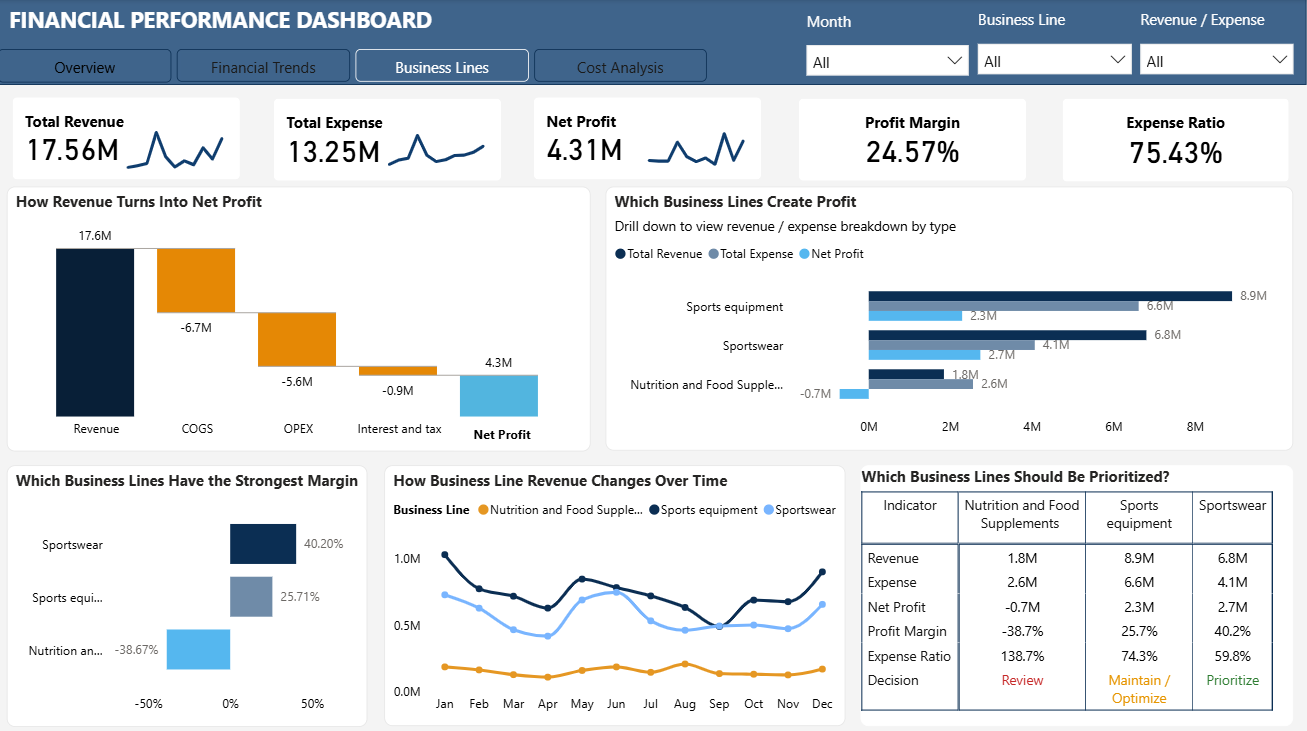

This screenshot's page, from the dashboard's own definition file:
{"tool":"powerbi","page":{"name":"Business Line Performance","canvas":[1280,720],"ordinal":2},"visuals":[{"type":"shape","box":[0,0,1280.3,84.2],"z":0},{"type":"cardVisual","fields":{"Data":["Measure.Expense Ratio"]},"box":[1034.1,83.2,246.2,104.9],"z":0,"group":"g8"},{"type":"textbox","box":[0,0,491.6,51.4],"z":1000},{"type":"group","id":"g1","title":"Group 3","box":[0,83.2,259.7,104.9],"z":1000,"group":"g8"},{"type":"waterfallChart","title":"How Revenue Turns Into Net Profit","fields":{"Category":["Waterfall Steps Simple.Step"],"Y":["Waterfall Steps Simple.Waterfall Step Value Simple"]},"box":[8.6,183.9,571.1,259.2],"z":1000,"group":"g9"},{"type":"actionButton","title":"Overview","box":[0,35.5,170,47.7],"z":2000},{"type":"group","id":"g2","title":"Group 3","box":[262,83.2,260.1,105.2],"z":2000,"group":"g8"},{"type":"actionButton","box":[170,35.5,170,47.7],"z":3000},{"type":"slicer","fields":{"Values":["Dim_BusinessLine.Business Line"]},"box":[953.8,39.3,160,42.8],"z":3000,"group":"g6"},{"type":"slicer","fields":{"Values":["Dim_AccountType.Revenue / Expense Group"]},"box":[1113.2,39.9,159.4,42.5],"z":3000,"group":"g7"},{"type":"slicer","fields":{"Values":["Dim_Date.Month"]},"box":[786.8,40.6,167.8,42.8],"z":3000,"group":"g5"},{"type":"group","id":"g3","title":"Group 3","box":[524.3,83.2,259.3,104.9],"z":3000,"group":"g8"},{"type":"textbox","box":[446.4,410.9,90.5,30.6],"z":3000,"group":"g9"},{"type":"textbox","box":[953.8,5.1,153.6,35.5],"z":4000,"group":"g6"},{"type":"textbox","box":[1113.6,5.1,153.4,35.7],"z":4000,"group":"g7"},{"type":"textbox","box":[786.8,6.4,161.1,35.5],"z":4000,"group":"g5"},{"type":"group","id":"g4","title":"Group 3","box":[785.9,83.2,246.2,104.9],"z":4000,"group":"g8"},{"type":"textbox","box":[390.1,209.1,90.5,30.6],"z":4000},{"type":"actionButton","box":[339.9,35.5,170,47.7],"z":5000},{"type":"cardVisual","fields":{"Data":["Measure.Total Revenue"]},"box":[0,83.2,246.6,104.9],"z":5000,"group":"g1"},{"type":"cardVisual","fields":{"Data":["Measure.Total Expense"]},"box":[262,83.2,246.6,104.9],"z":5000,"group":"g2"},{"type":"cardVisual","fields":{"Data":["Measure.Net Profit"]},"box":[524.3,83.2,246.6,104.9],"z":5000,"group":"g3"},{"type":"cardVisual","fields":{"Data":["Measure.Profit Margin"]},"box":[785.9,83.2,246.2,104.9],"z":5000,"group":"g4"},{"type":"actionButton","box":[509.9,33.7,168.8,47.7],"z":6000},{"type":"group","id":"g5","title":"Group 2","box":[786.8,6.4,167,76.5],"z":7000},{"type":"group","id":"g6","title":"Group 2","box":[953.8,5.1,159.4,76.5],"z":8000},{"type":"group","id":"g7","title":"Group 2","box":[1113.2,5.1,159.4,77.8],"z":9000},{"type":"group","id":"g8","title":"Group 1","box":[0,83.2,1280.3,105.2],"z":10000},{"type":"clusteredBarChart","title":"Which Business Lines Create Profit","fields":{"Category":["Dim_BusinessLine.Business Line","Dim_AccountType.Revenue / Expense Group"],"Y":["Measure.Total Revenue","Measure.Total Expense","Measure.Net Profit"]},"box":[594.3,183.4,672.6,258],"z":11000},{"type":"group","id":"g9","title":"Group 4","box":[8.6,183.9,571.1,259.2],"z":12000},{"type":"lineChart","title":"How Business Line Revenue Changes Over Time","fields":{"Y":["Measure.Total Revenue"],"Series":["Dim_BusinessLine.Business Line"],"Category":["Dim_Date.Year Hierarchy.Year","Dim_Date.Year Hierarchy.Quarter","Dim_Date.Year Hierarchy.Month Short"]},"box":[377.9,456.1,451.2,255.6],"z":13000},{"type":"clusteredBarChart","title":"Which Business Lines Have the Strongest Margin","fields":{"Category":["Dim_BusinessLine.Business Line"],"Y":["Measure.Profit Margin"]},"box":[9.1,456.4,353,255.8],"z":14000},{"type":"pivotTable","title":"Which Business Lines Should Be Prioritized?","fields":{"Columns":["Dim_BusinessLine.Business Line"],"Rows":["Business Line Metrics.Metric"],"Values":["Measure.Business Line Metric Value"]},"box":[843.8,456.1,423.1,255.6],"z":15000},{"type":"lineChart","fields":{"Y":["Measure.Monthly Revenue Growth %"],"Category":["Dim_Date.Month"]},"box":[92.3,109.5,167.4,61.3],"z":16000,"group":"g1"},{"type":"lineChart","fields":{"Category":["Dim_Date.Month"],"Y":["Measure.Monthly Expense Growth %"]},"box":[354.3,109.5,167.4,61.3],"z":16000,"group":"g2"},{"type":"lineChart","fields":{"Category":["Dim_Date.Month"],"Y":["Measure.Monthly Net Profit Growth %"]},"box":[616.6,109.5,167.4,61.3],"z":16000,"group":"g3"}]}

Visuals, with their boxes in screenshot pixels (x1, y1, x2, y2), scaled from the page's 1280x720 canvas onto the 1307x731 screenshot:
shape: 0/0/1306/85
cardVisual - Measure.Expense Ratio: 1056/84/1306/191
textbox: 0/0/502/52
"Group 3" group: 0/84/265/191
"How Revenue Turns Into Net Profit" waterfallChart: 9/187/592/450
"Overview" actionButton: 0/36/174/84
"Group 3" group: 268/84/533/191
actionButton: 174/36/347/84
slicer - Dim_BusinessLine.Business Line: 974/40/1137/83
slicer - Dim_AccountType.Revenue / Expense Group: 1137/41/1299/84
slicer - Dim_Date.Month: 803/41/975/85
"Group 3" group: 535/84/800/191
textbox: 456/417/548/448
textbox: 974/5/1131/41
textbox: 1137/5/1294/41
textbox: 803/6/968/43
"Group 3" group: 802/84/1054/191
textbox: 398/212/491/243
actionButton: 347/36/521/84
cardVisual - Measure.Total Revenue: 0/84/252/191
cardVisual - Measure.Total Expense: 268/84/519/191
cardVisual - Measure.Net Profit: 535/84/787/191
cardVisual - Measure.Profit Margin: 802/84/1054/191
actionButton: 521/34/693/83
"Group 2" group: 803/6/974/84
"Group 2" group: 974/5/1137/83
"Group 2" group: 1137/5/1299/84
"Group 1" group: 0/84/1306/191
"Which Business Lines Create Profit" clusteredBarChart: 607/186/1294/448
"Group 4" group: 9/187/592/450
"How Business Line Revenue Changes Over Time" lineChart: 386/463/847/723
"Which Business Lines Have the Strongest Margin" clusteredBarChart: 9/463/370/723
"Which Business Lines Should Be Prioritized?" pivotTable: 862/463/1294/723
lineChart - Measure.Monthly Revenue Growth % x Dim_Date.Month: 94/111/265/173
lineChart - Dim_Date.Month x Measure.Monthly Expense Growth %: 362/111/533/173
lineChart - Dim_Date.Month x Measure.Monthly Net Profit Growth %: 630/111/801/173
